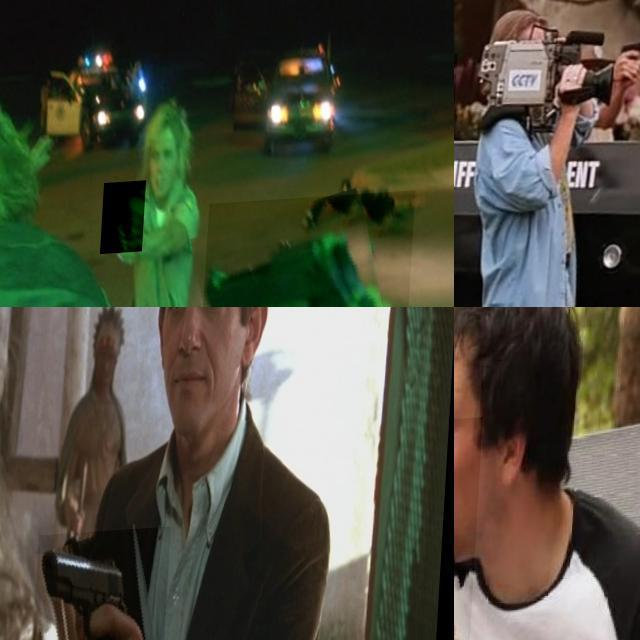-: (454, 422, 524, 640)
gun-knife-thesis - v11 Yolov5 augmented: (198, 198, 419, 307), (454, 19, 589, 158), (33, 531, 175, 640), (104, 184, 150, 258), (454, 59, 489, 142)
